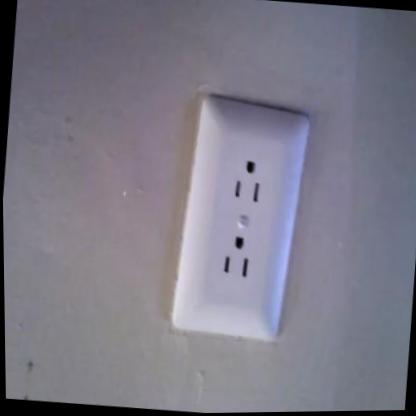OUTLET: (170, 104, 313, 341)
